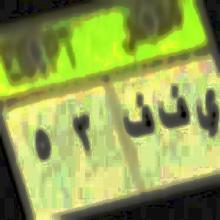3: (71, 112, 94, 161)
5: (33, 123, 54, 167)
faa: (119, 90, 153, 142), (158, 82, 190, 130)
yaa: (196, 87, 220, 143)
